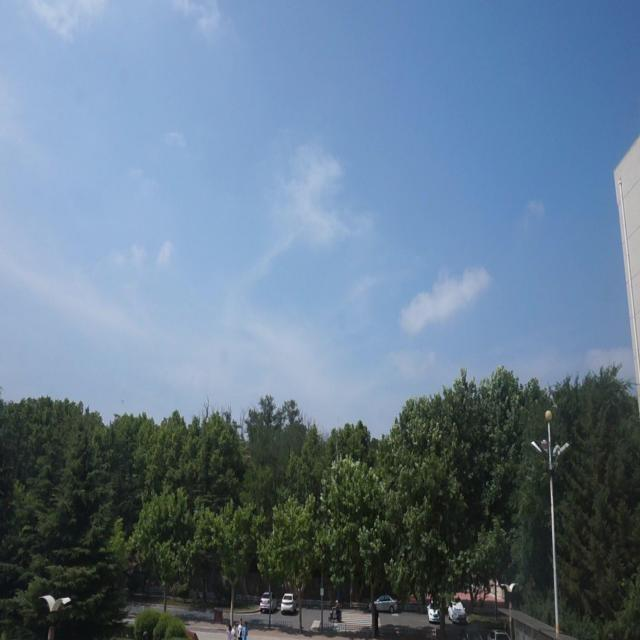UAV: (120, 398, 125, 404)
